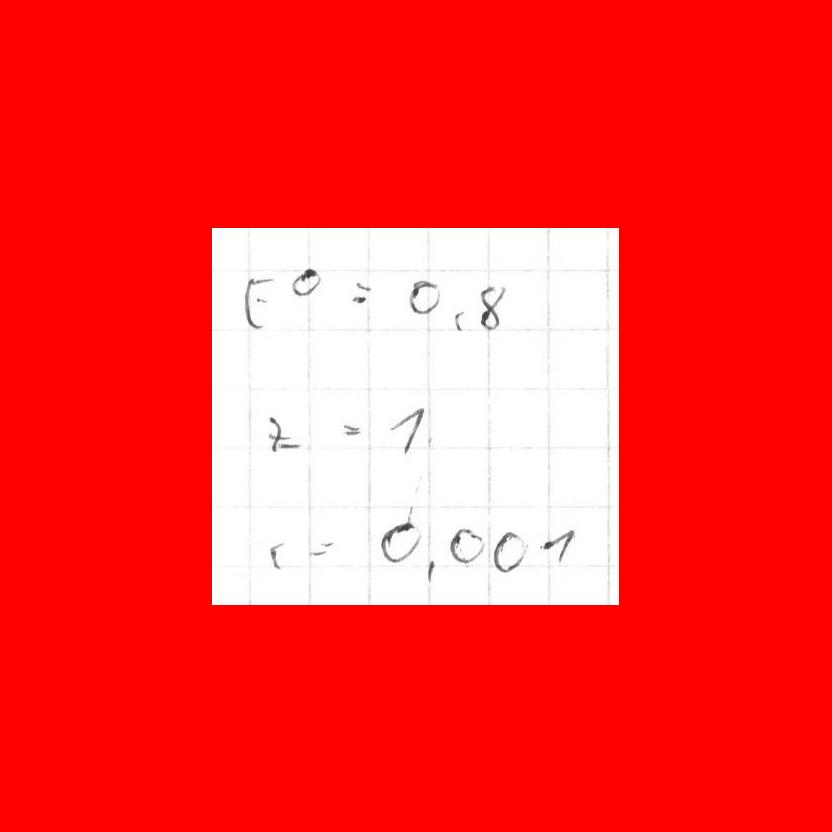Char: (375, 518, 421, 567), (387, 403, 426, 457), (242, 274, 275, 332), (491, 529, 529, 573), (263, 413, 304, 453), (448, 525, 487, 566), (537, 526, 576, 565), (405, 276, 442, 317), (477, 282, 507, 331), (288, 262, 323, 300), (348, 277, 373, 307), (306, 539, 338, 561), (268, 540, 290, 571), (450, 306, 467, 333), (339, 420, 362, 438), (424, 554, 438, 582)
